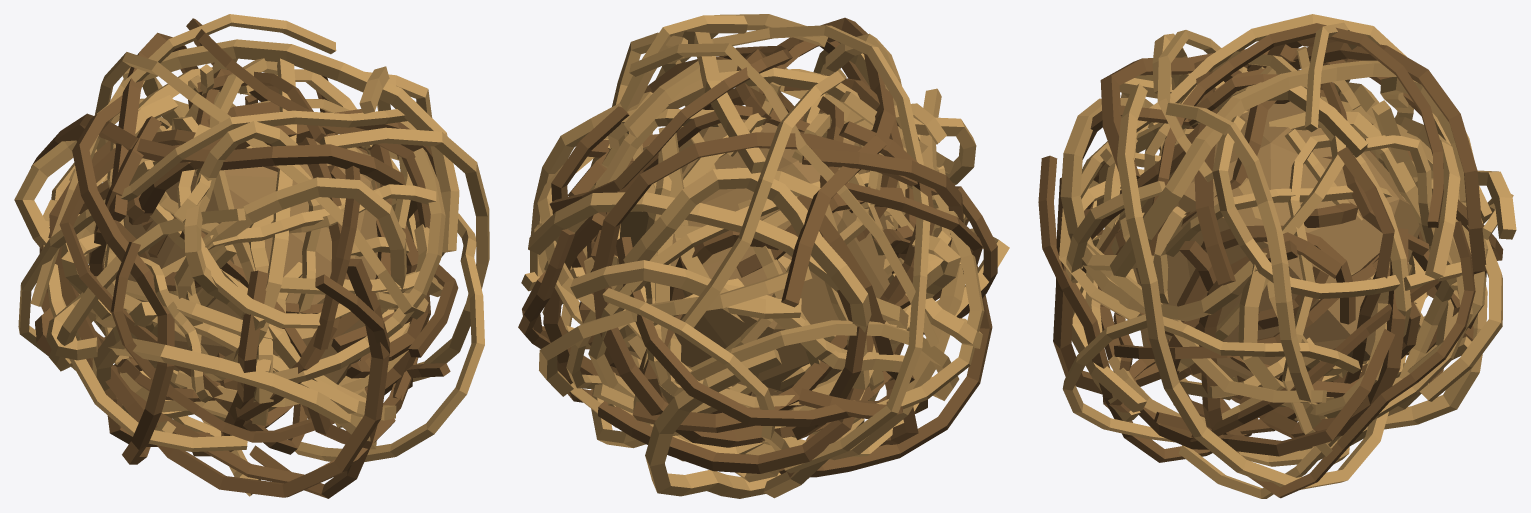
Rendered from Tumbleweed.glb.
The picture shows the model from 3 angles, left to right: view 1: azimuth 30°, elevation 25°; view 2: azimuth 150°, elevation 25°; view 3: azimuth 270°, elevation 25°; orthographic projection. The views are drawn at different scales.
Parts seen in each view (by area): view 1: Tumbleweed.001; view 2: Tumbleweed.001; view 3: Tumbleweed.001.
Boxes of the visible parts, x1,y1,x2,y2 form: Tumbleweed.001: (14, 14, 489, 498); Tumbleweed.001: (518, 14, 1009, 498); Tumbleweed.001: (1038, 14, 1516, 498).
Bounding box in the file's own units: 2.05 × 2.13 × 2.07.
